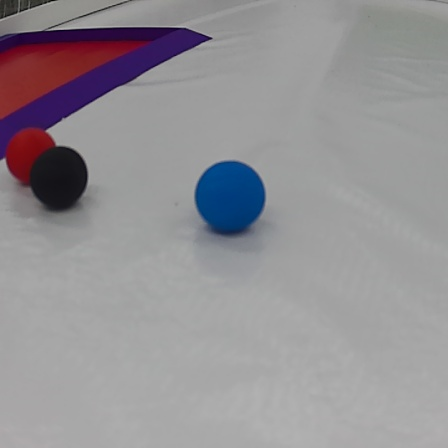black: (28, 145, 92, 212)
blue: (193, 153, 271, 239)
red: (3, 129, 57, 184)
red_aim: (2, 23, 213, 176)
